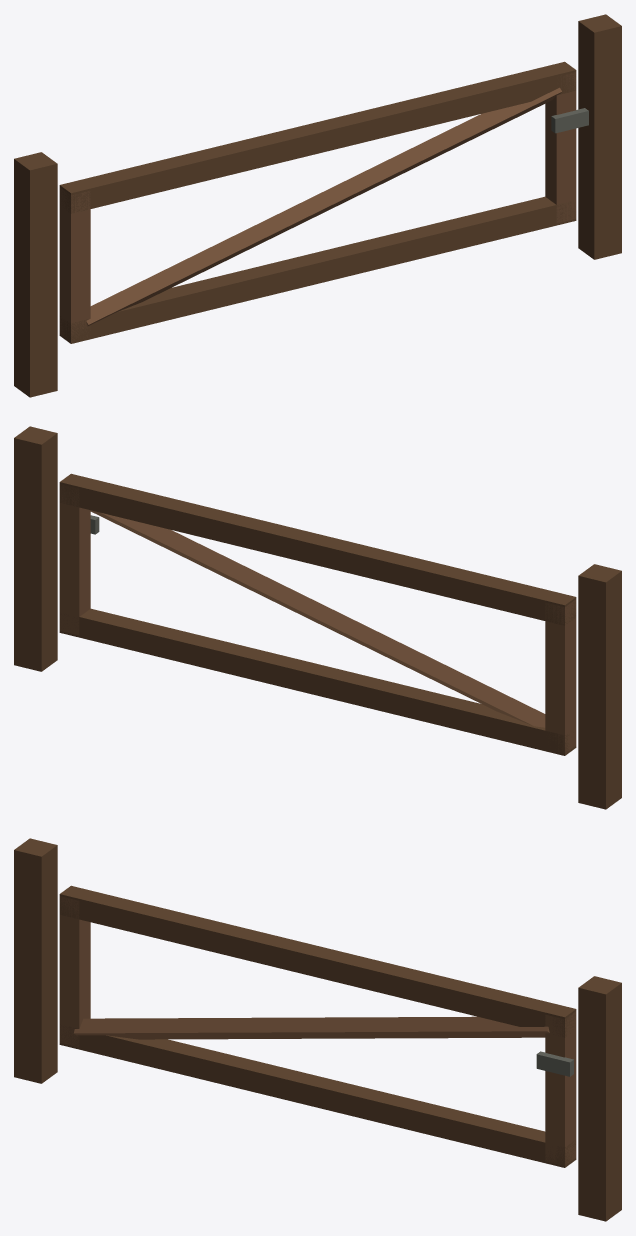
File: fence-gate.glb
3 renders of one model, top to bottom at view 1: azimuth 30°, elevation 25°; view 2: azimuth 150°, elevation 25°; view 3: azimuth 330°, elevation 25°, orthographic.
Parts seen in each view (by area): view 1: gate_leaf, gate_posts; view 2: gate_leaf, gate_posts; view 3: gate_leaf, gate_posts.
Boxes of the visible parts, <box> form: gate_leaf: <box>59,61,588,343</box>; gate_posts: <box>14,14,621,397</box>; gate_leaf: <box>59,473,576,755</box>; gate_posts: <box>14,426,621,809</box>; gate_leaf: <box>59,885,576,1167</box>; gate_posts: <box>14,838,621,1221</box>.
Bounding box in the file's own units: 1 × 0.3667 × 0.0508.
